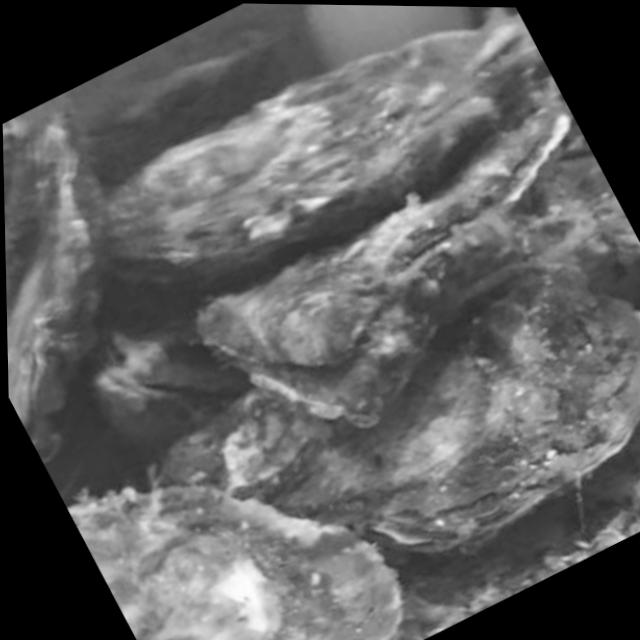Oyster-Closed: (207, 106, 579, 423)
Oyster-Indeterminate: (147, 269, 640, 557), (96, 20, 542, 290), (78, 489, 412, 640), (3, 111, 95, 461)
